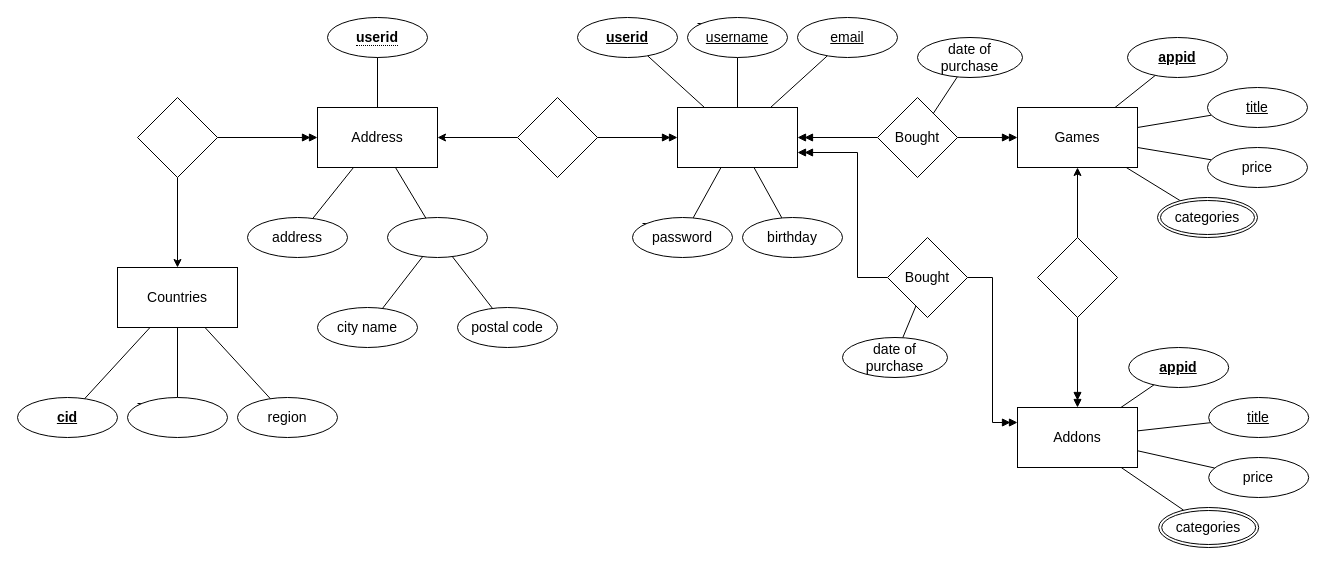
Some shapes in this 1327 by 565 pixel diagram are drawn without their labels. The shapes that lost their labels are listed below. From the top down, each one's centre as x and y in pixels, then its label:
At pixel 177 137: "A-C".
At pixel 557 137: "U-A".
At pixel 737 137: "Users".
At pixel 437 237: "city".
At pixel 1077 277: "G-A".
At pixel 177 417: "cname".
